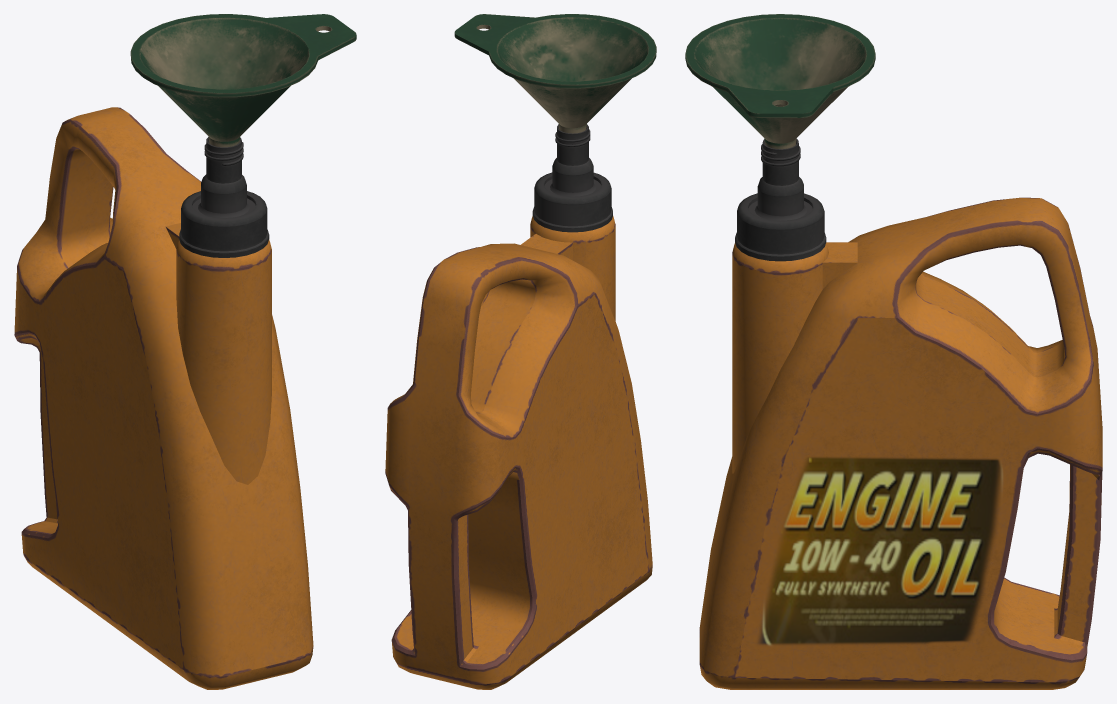
File: CR_Engine_oil.fbx
3 renders of one model, left to right at view 1: azimuth 30°, elevation 25°; view 2: azimuth 150°, elevation 25°; view 3: azimuth 270°, elevation 25°, orthographic. The views are drawn at different scales.
Visible parts, largest first — view 1: Engine_oil; view 2: Engine_oil; view 3: Engine_oil.
Part boxes in pixels (<box>): Engine_oil: <box>14,14,356,689</box>; Engine_oil: <box>385,14,656,689</box>; Engine_oil: <box>685,14,1102,689</box>.
Size of the model in its own units: 11.76 by 33.79 by 20.81.
